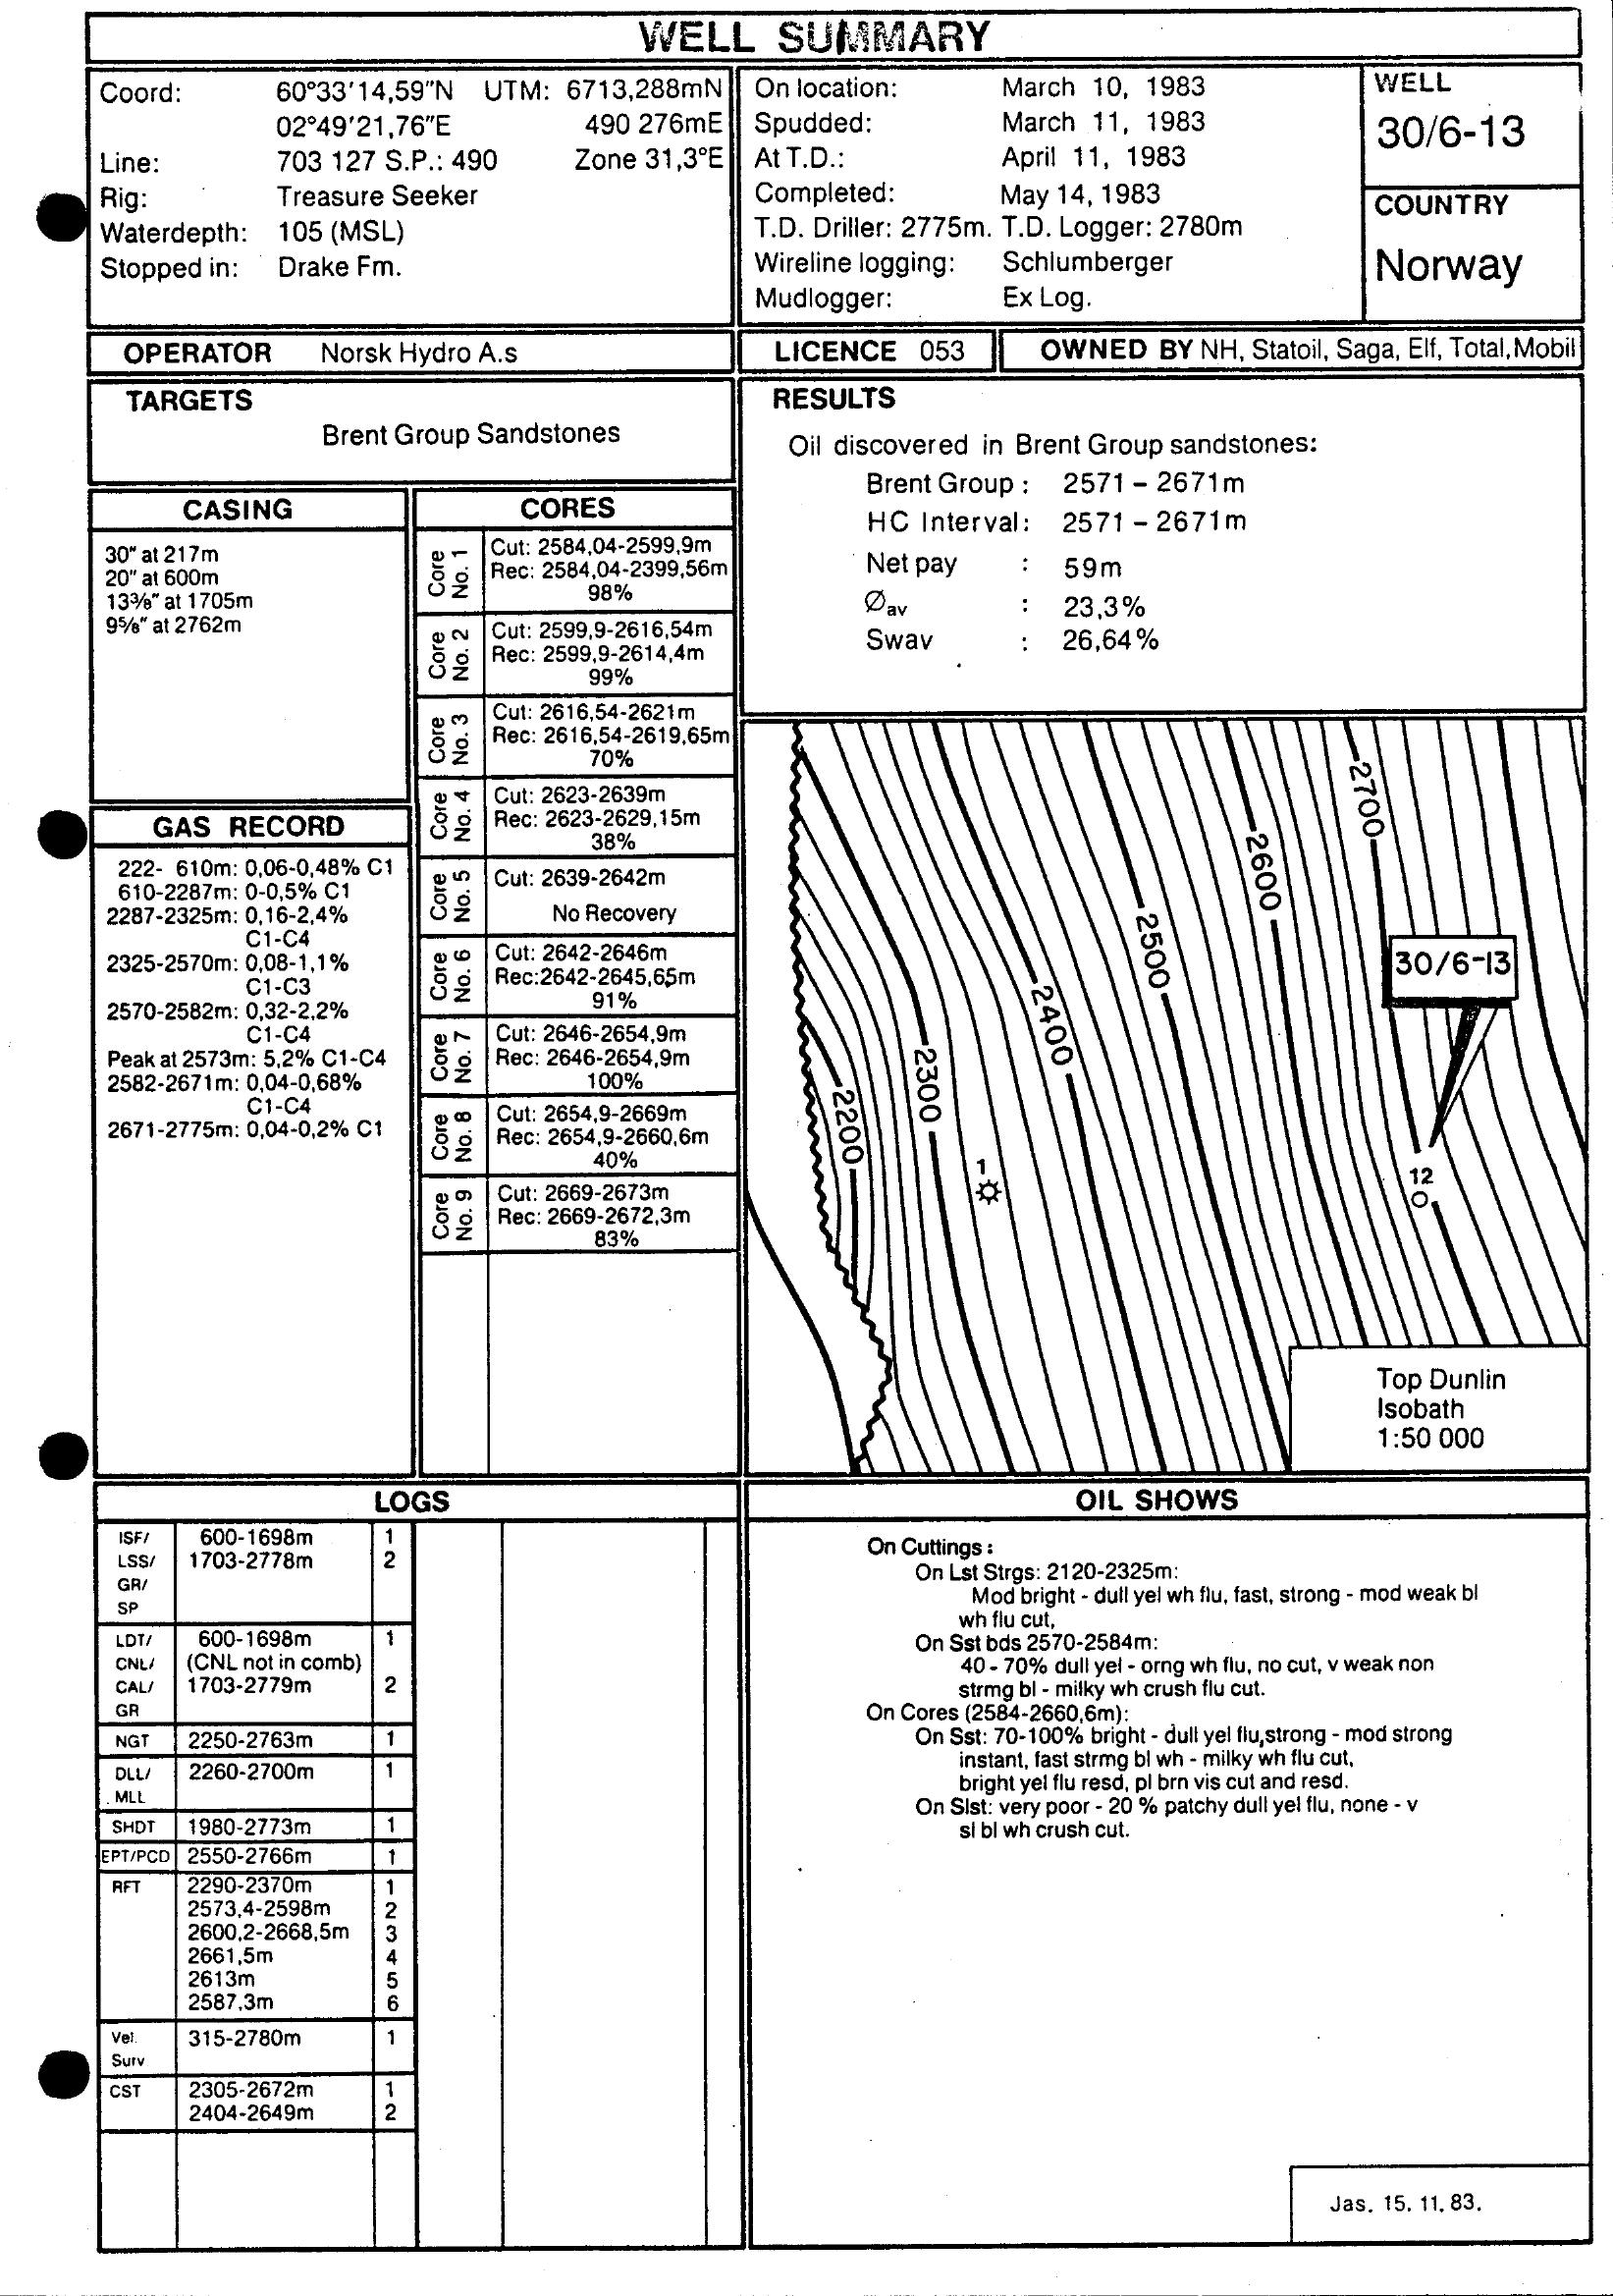graph: (49, 3, 1613, 2270)
